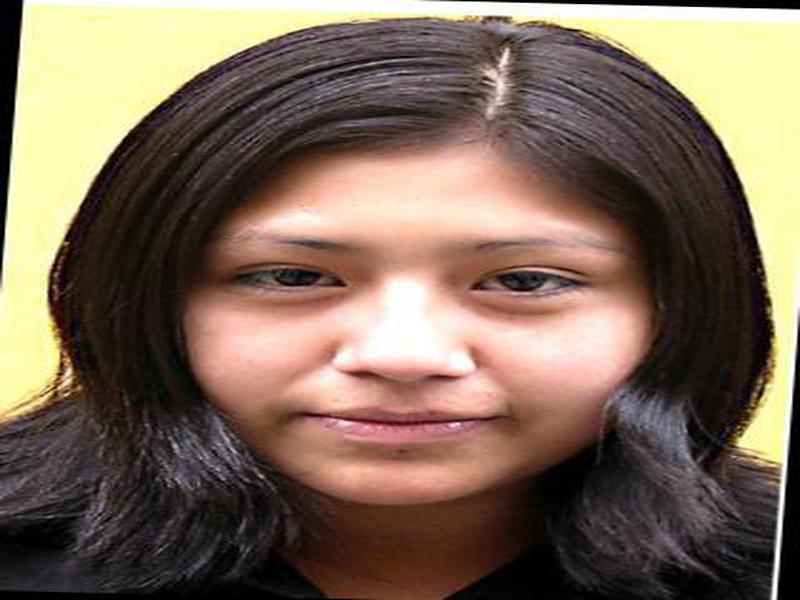without_mask: (200, 155, 616, 508)
